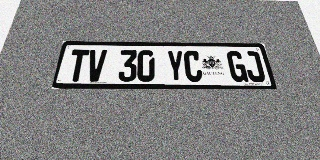0: (137, 50, 154, 82)
3: (118, 50, 137, 82)
C: (183, 51, 203, 82)
G: (226, 51, 249, 82)
J: (242, 51, 266, 82)
T: (66, 49, 90, 81)
V: (85, 50, 107, 82)
Y: (166, 50, 185, 82)
